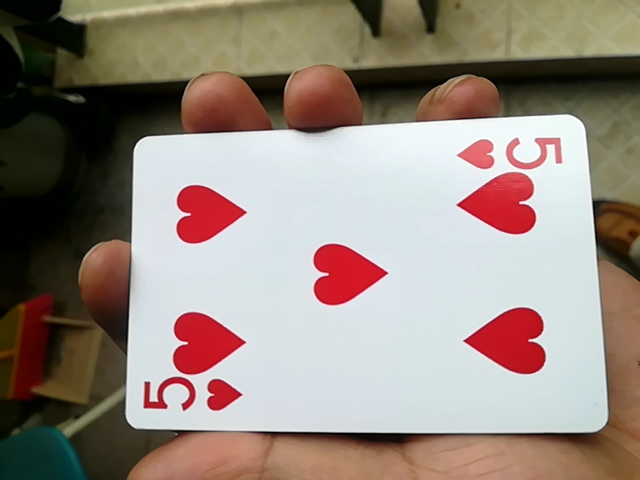hx 5: (116, 118, 604, 445)
